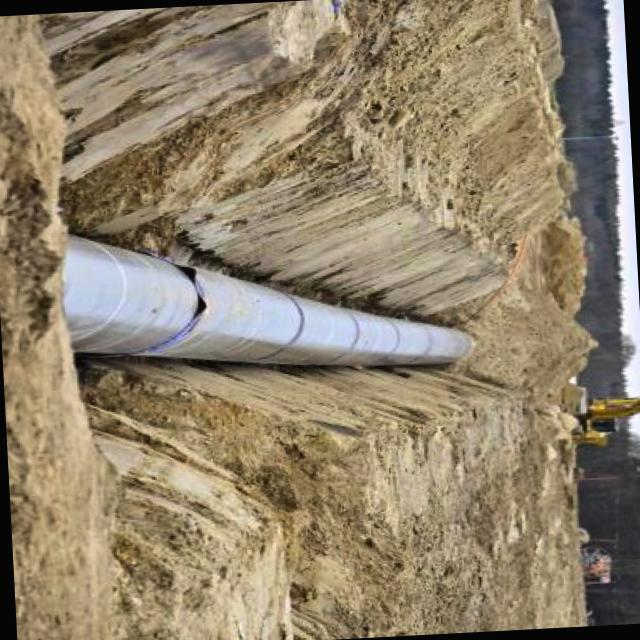gas: (78, 240, 473, 367)
